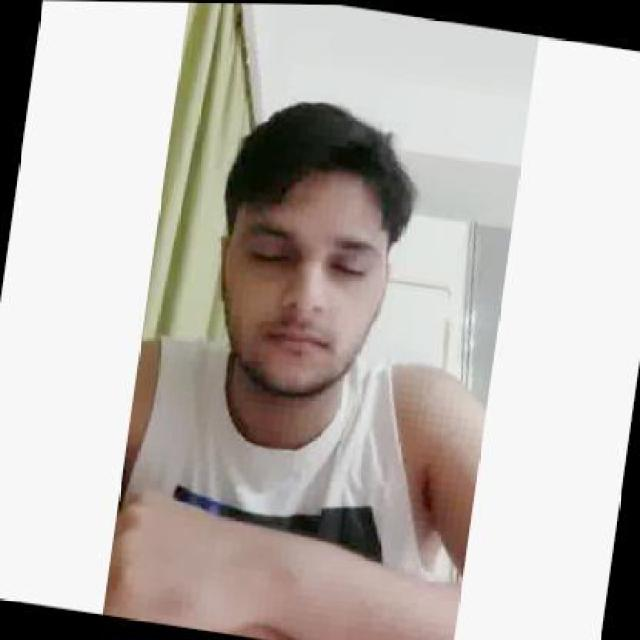inattentif: (196, 86, 412, 414)
